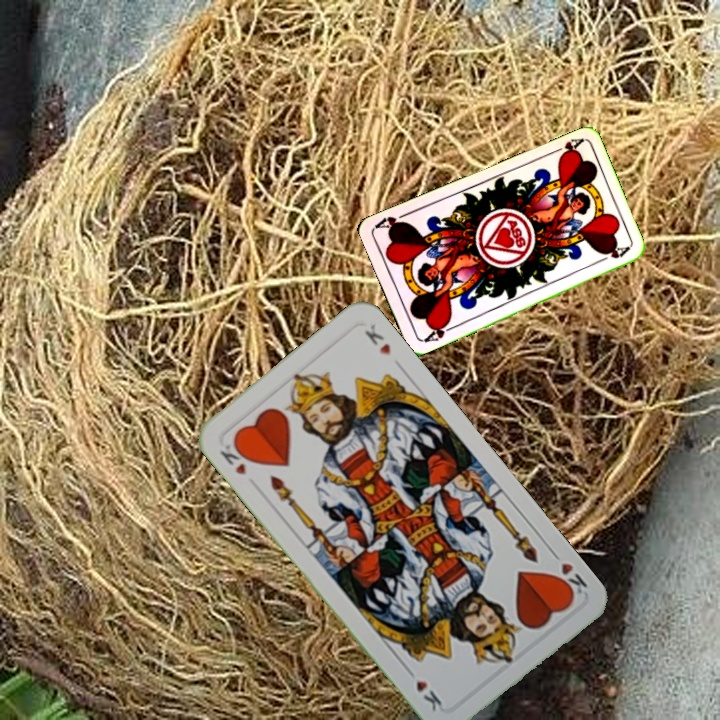HA: (420, 317, 458, 345), (546, 134, 585, 161)
HK: (546, 546, 591, 601), (215, 435, 254, 478)
